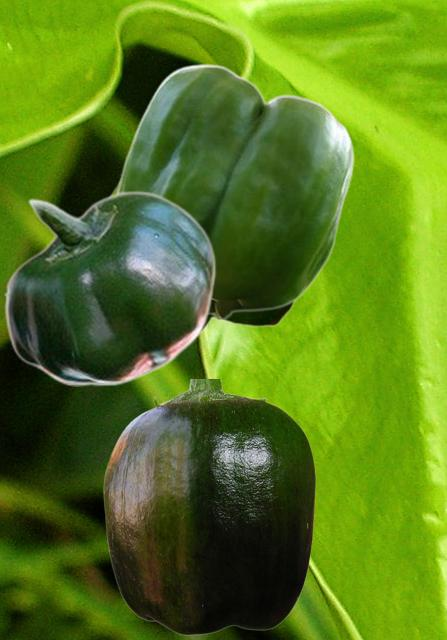bell_pepper: (114, 63, 353, 319), (103, 379, 315, 634), (3, 190, 215, 385), (109, 176, 298, 331)
